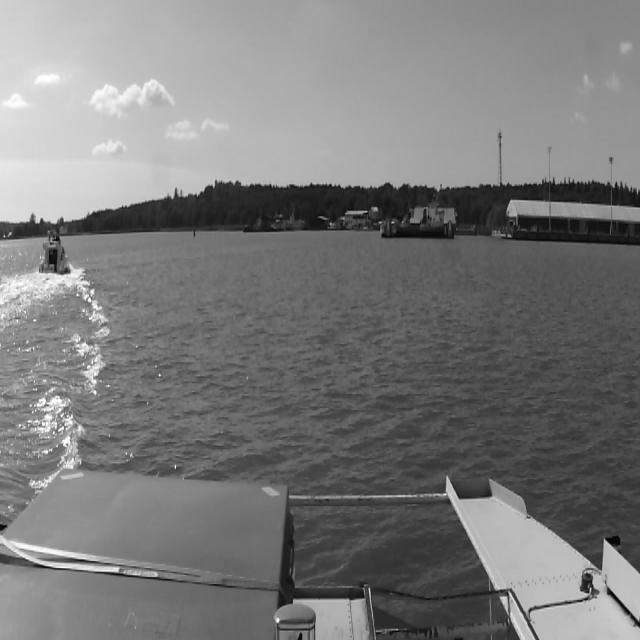buoy: (192, 226, 196, 239)
ship: (37, 222, 71, 284)
